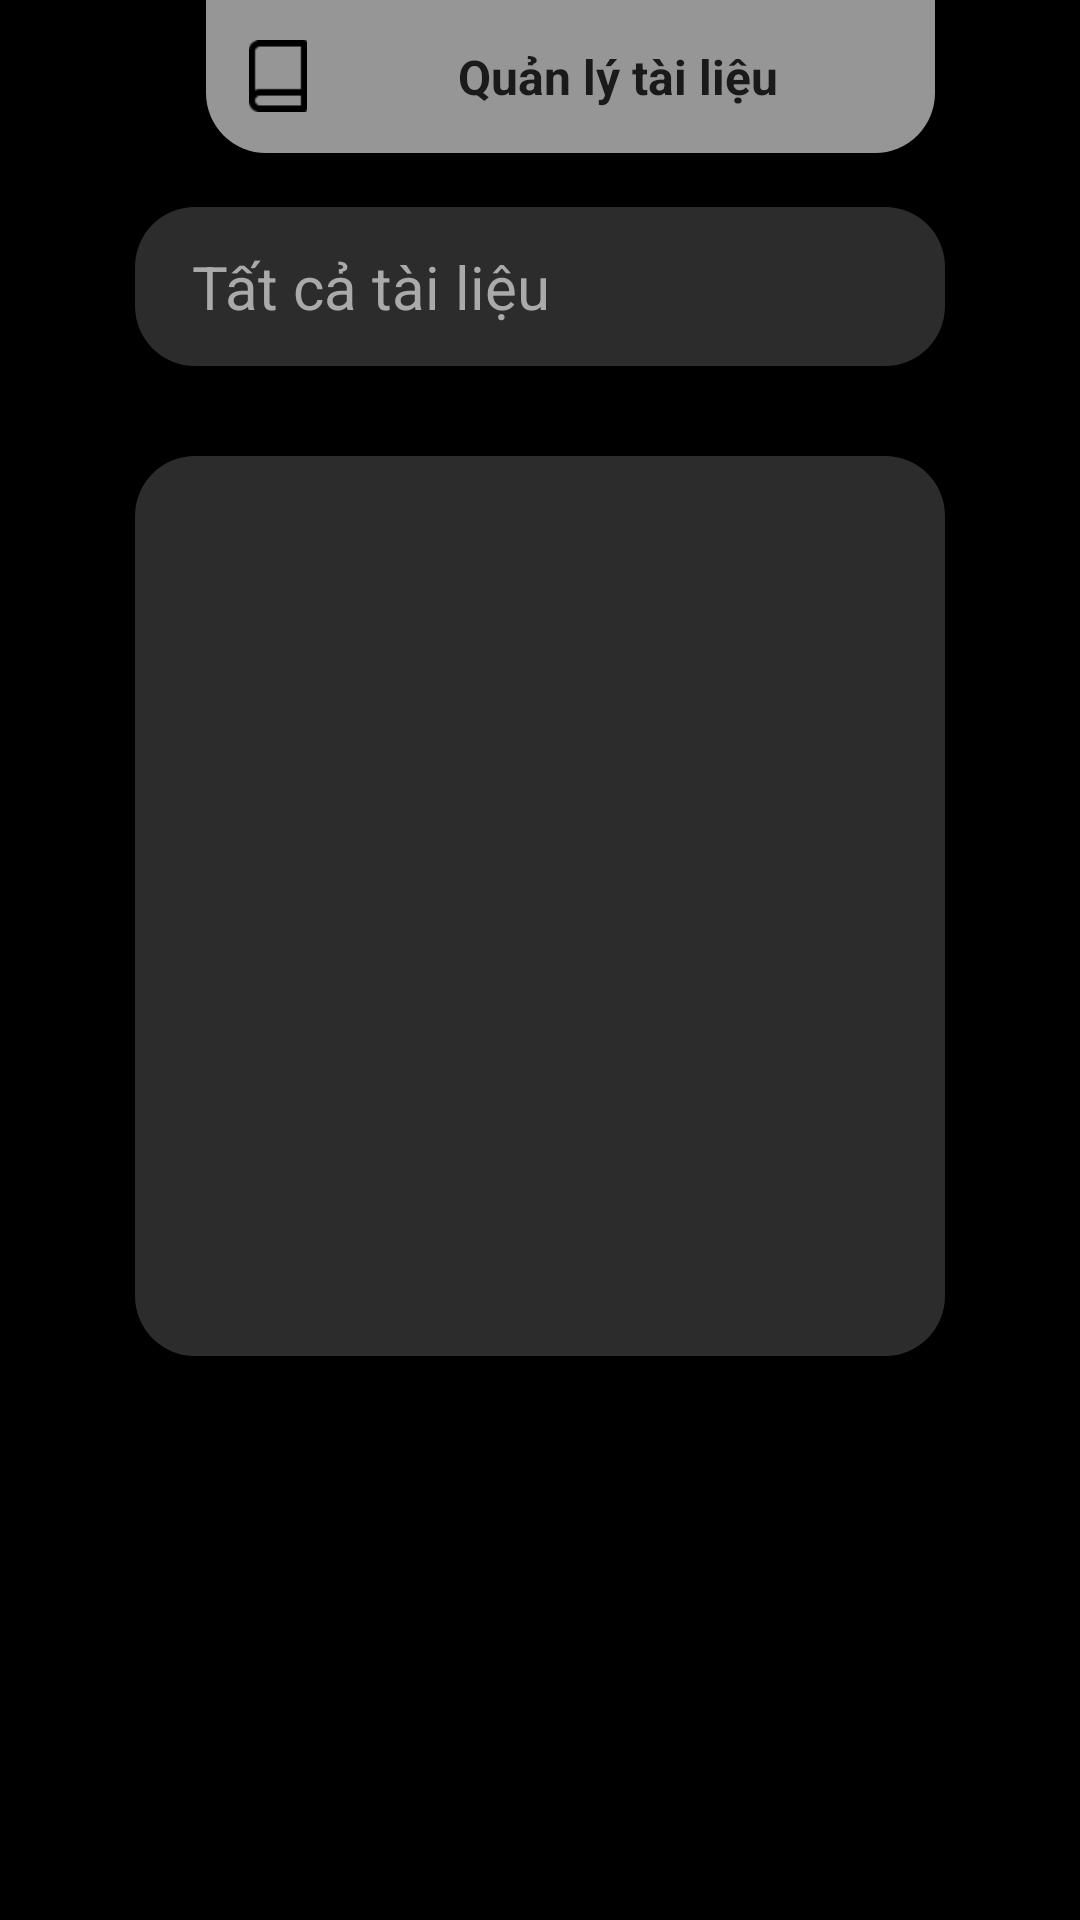

Screen size 1080 × 1920. Icon name, then its box in pixels as (x1=x1, y1=y1, x2=x2, y2=y2):
documents: (x1=249, y1=40, x2=307, y2=112)
